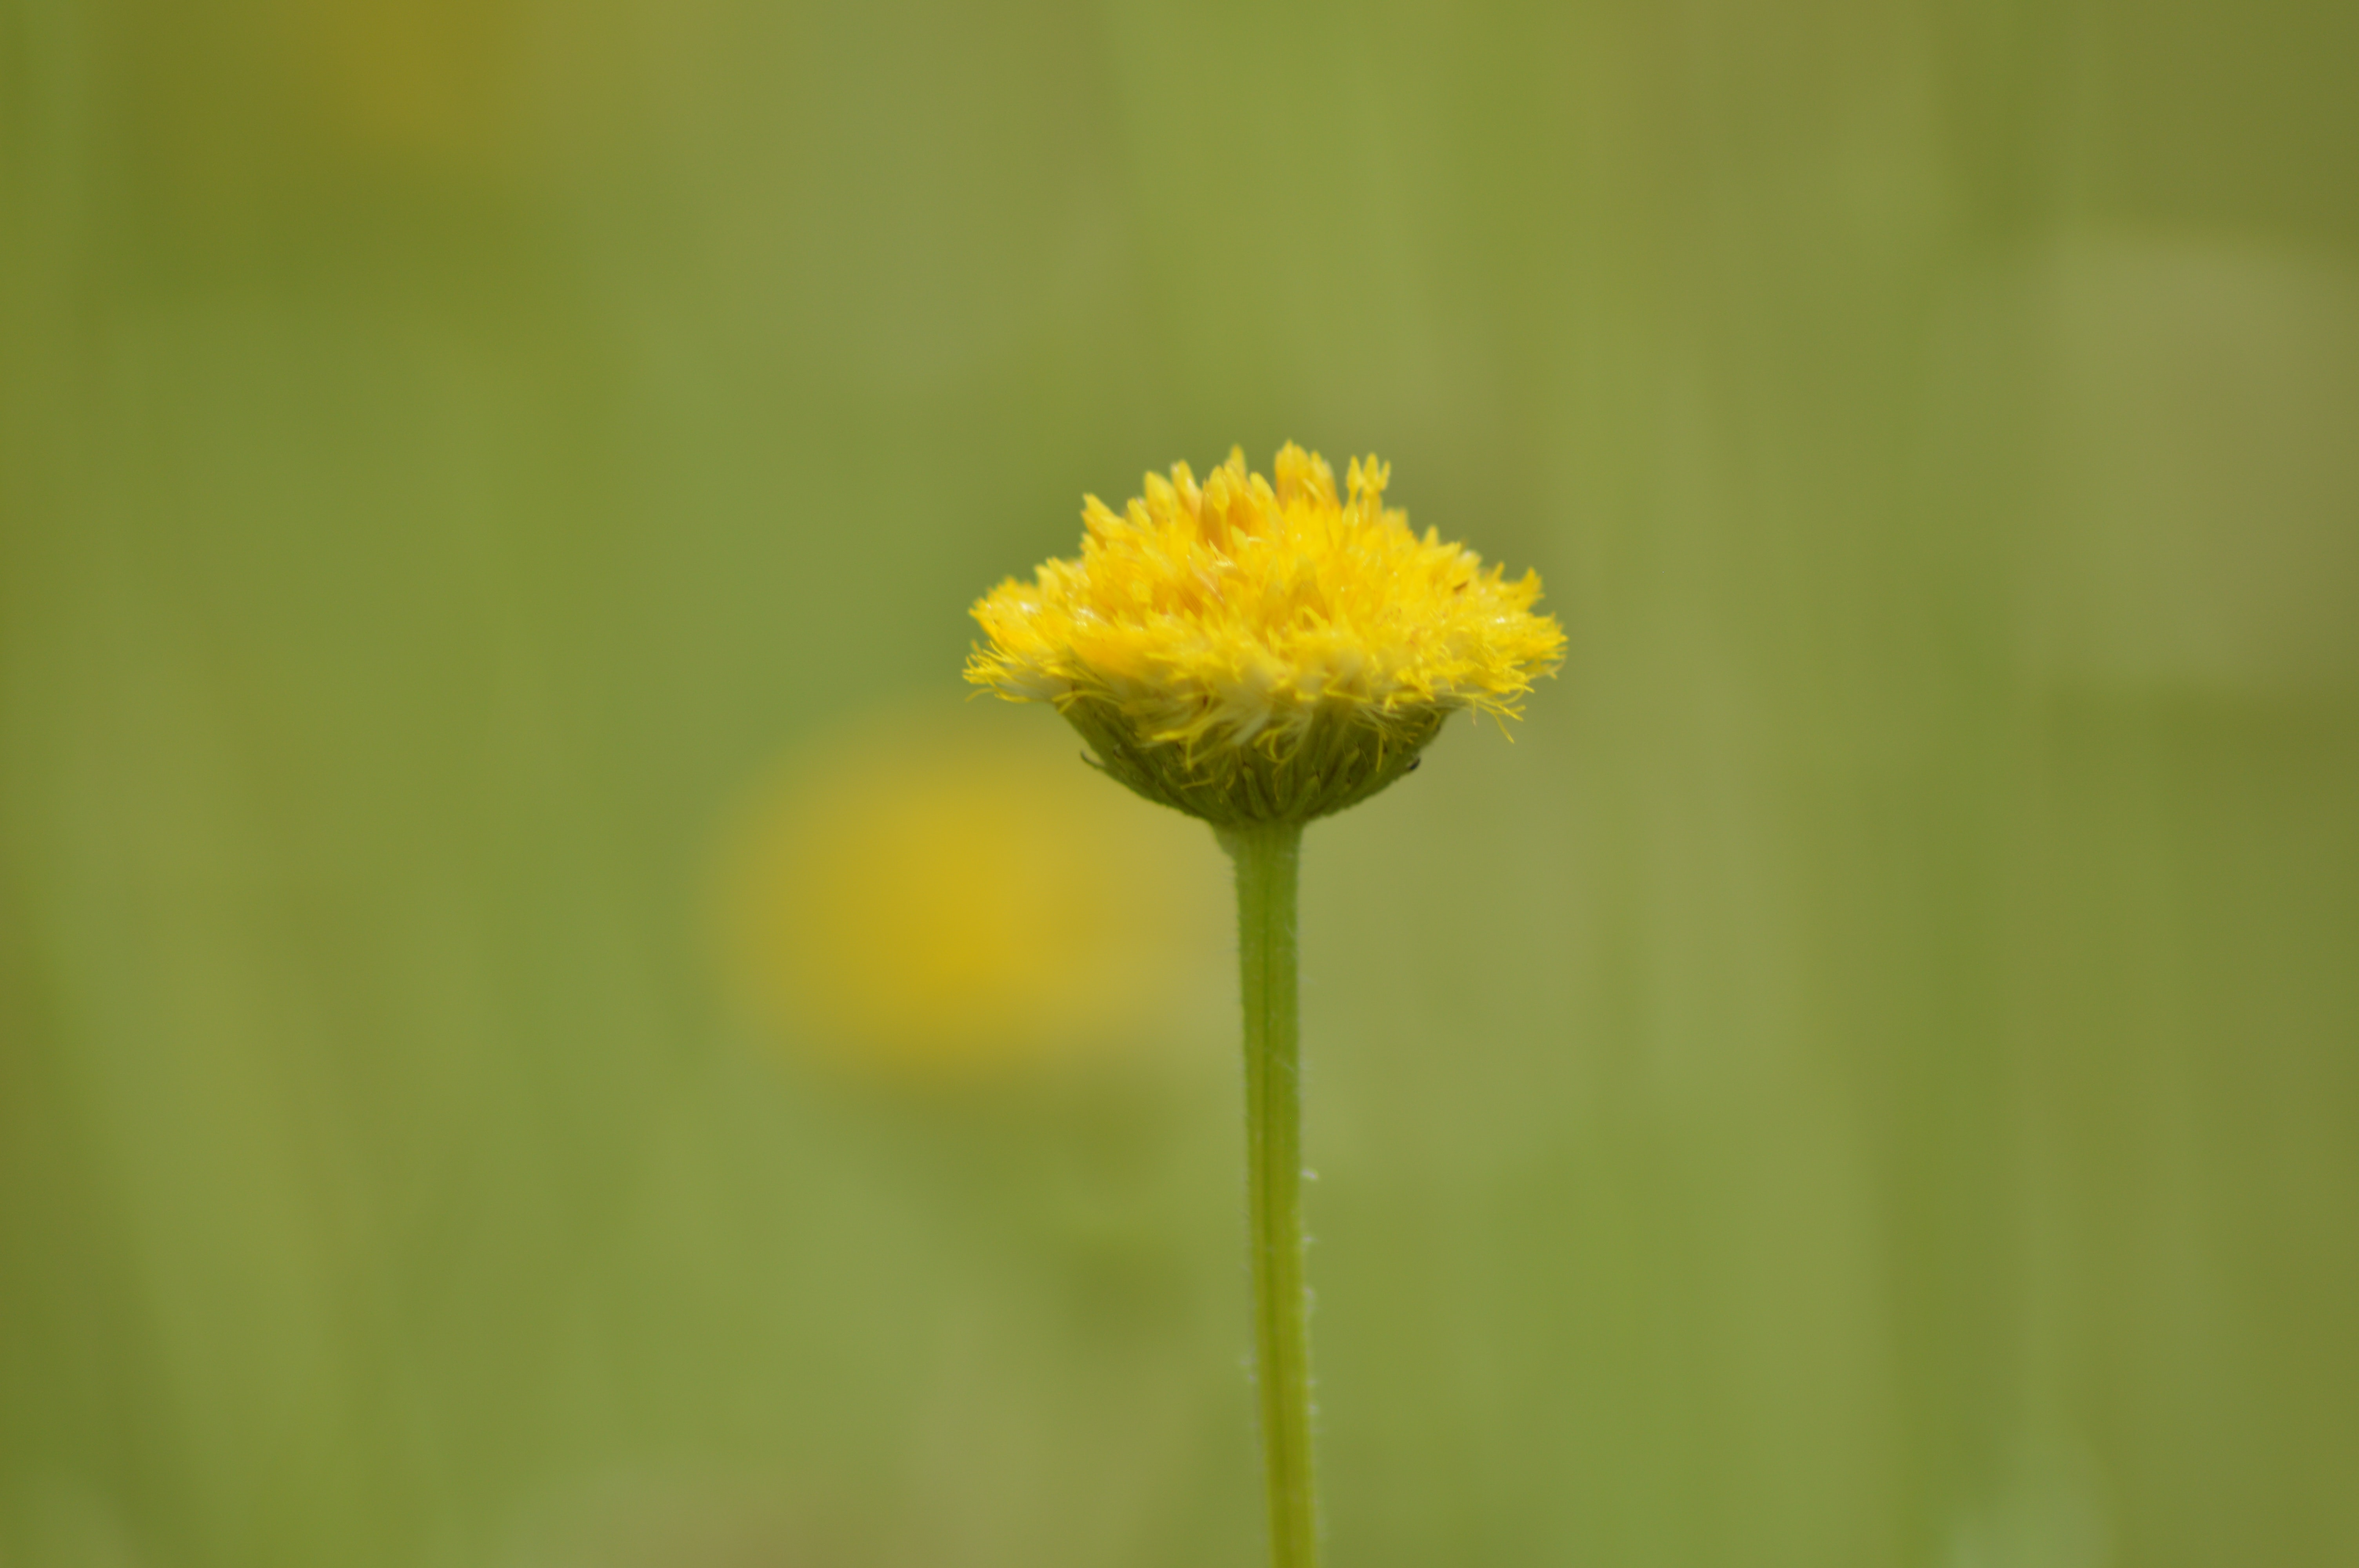dandelion: (968, 436, 1493, 784)
